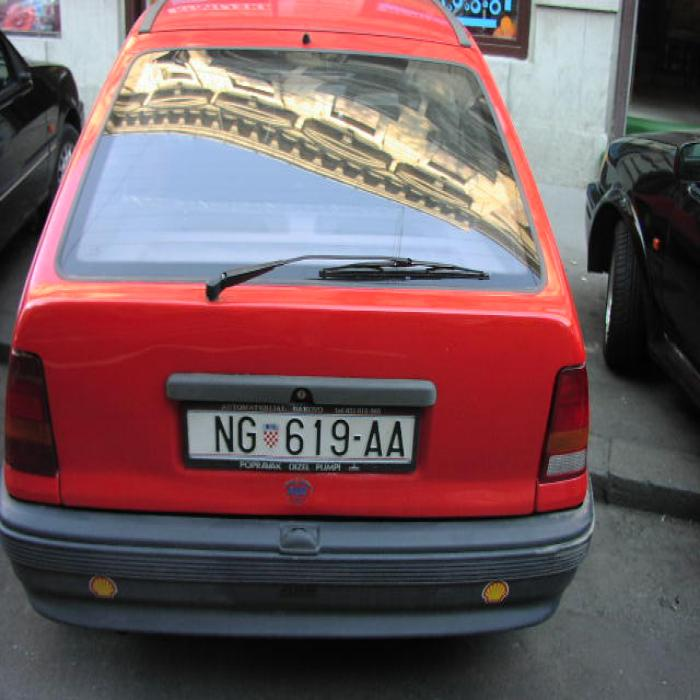number_plate: (187, 408, 411, 462)
